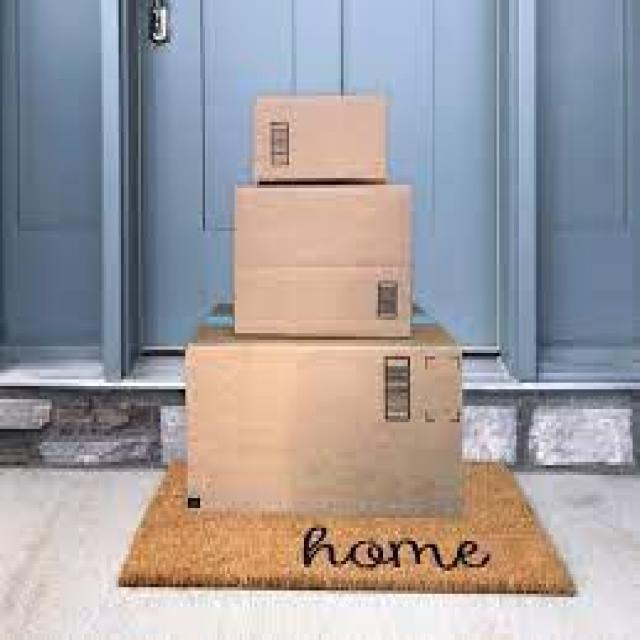box: (182, 321, 467, 527), (224, 178, 422, 338), (248, 98, 384, 182)
